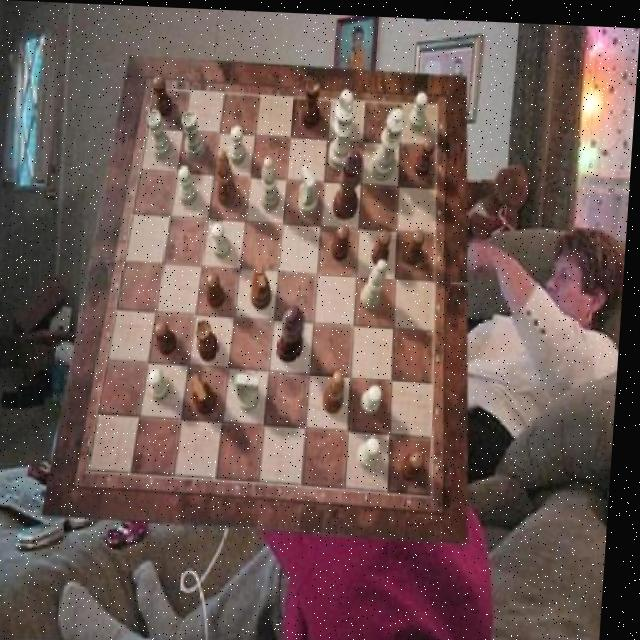bishop: (216, 147, 242, 205), (328, 367, 351, 411)
black-bishop: (280, 301, 309, 360)
black-king: (193, 372, 222, 413), (253, 259, 276, 309)
black-knight: (152, 75, 175, 117), (405, 224, 429, 262), (156, 320, 182, 355), (415, 135, 437, 174), (207, 269, 229, 306), (374, 224, 394, 263), (406, 446, 431, 477), (334, 222, 354, 258)
black-pawn: (335, 146, 365, 219)
black-queen: (199, 317, 225, 360), (302, 77, 324, 127)
black-rook: (365, 255, 390, 307), (262, 154, 285, 209)
white-bishop: (329, 86, 357, 169)
white-king: (299, 162, 321, 211), (240, 371, 266, 409)
white-knight: (179, 163, 201, 203), (212, 220, 235, 257), (362, 433, 387, 467), (152, 367, 176, 401), (409, 88, 428, 127), (335, 92, 354, 131), (231, 124, 249, 163), (365, 381, 387, 411)
white-pawn: (371, 104, 408, 179)
white-queen: (147, 107, 176, 159), (181, 110, 208, 158)
